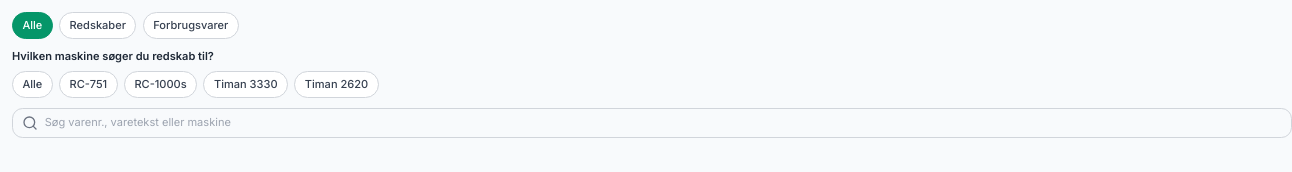
Scenario: explicit two-level loose-tool navigation › starts with no pressed machine and category changes keep every machine unselected
This screenshot has width=1292, height=172.
What coordinates should you click on to do the following:
click the button "Forbrugsvarer"
I would click on:
 (191, 26)
Its box is [143,12,239,39].
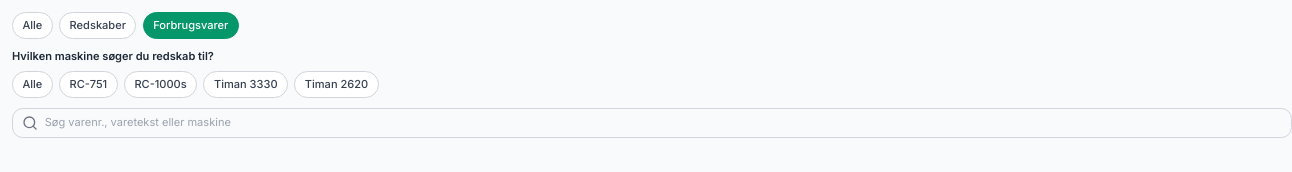
What coordinates should you click on to do the following:
click the button "RC-1000s"
I would click on:
 (160, 84)
Its box is [124,71,197,98].
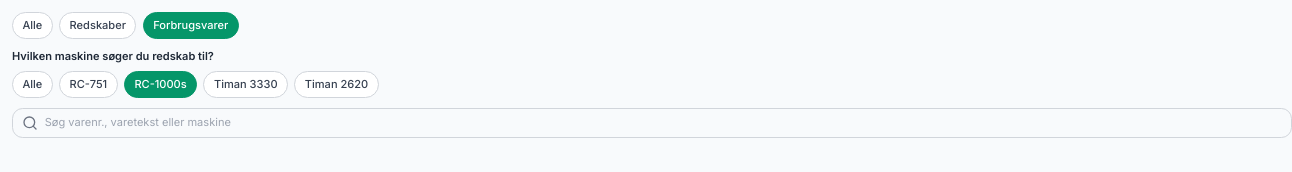
Now the button "RC-1000s" is pressed, box [124,71,197,98]
What coordinates should you click on to do the following:
click the button "Redskaber"
I would click on:
 (98, 26)
Its box is [59,12,136,39].
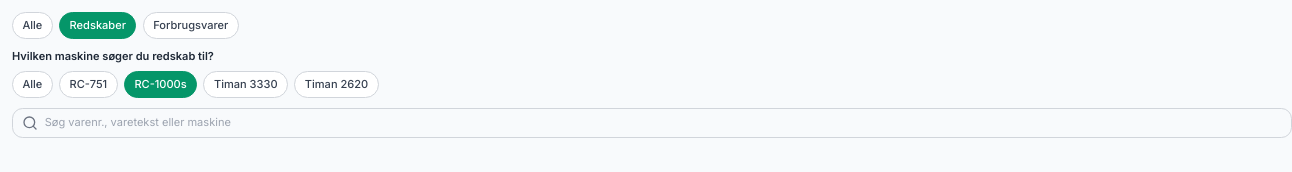
Now the button "RC-1000s" is pressed, box [124,71,197,98]
What coordinates should you click on to do the following:
click the button "RC-751"
I would click on:
 (88, 84)
Its box is [59,71,118,98].
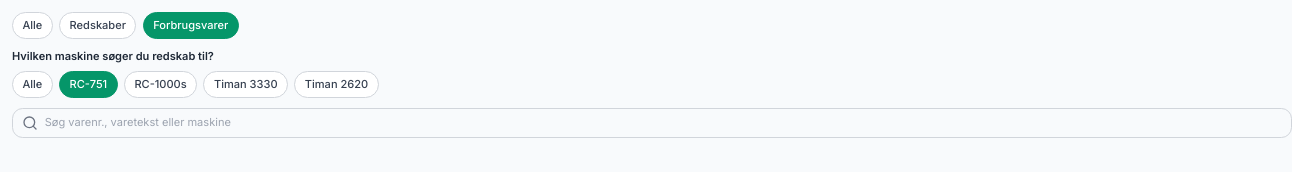
Now the button "Forbrugsvarer" is pressed, box [143,12,239,39]
Now the button "RC-751" is pressed, box [59,71,118,98]
What coordinates should you click on to do the following:
click the button "Redskaber"
I would click on:
 (98, 26)
Its box is [59,12,136,39].
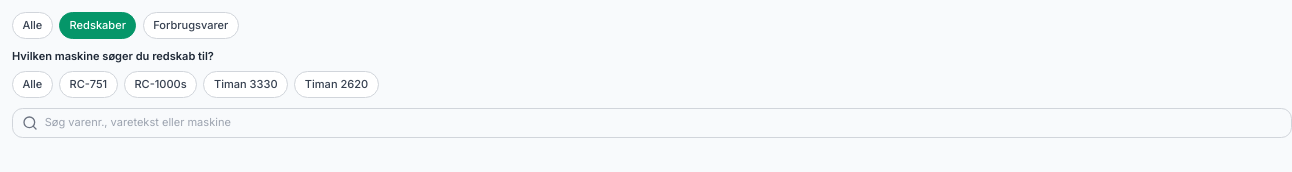
Now the button "RC-751" is not pressed, box [59,71,118,98]
Now the button "RC-1000s" is not pressed, box [124,71,197,98]
